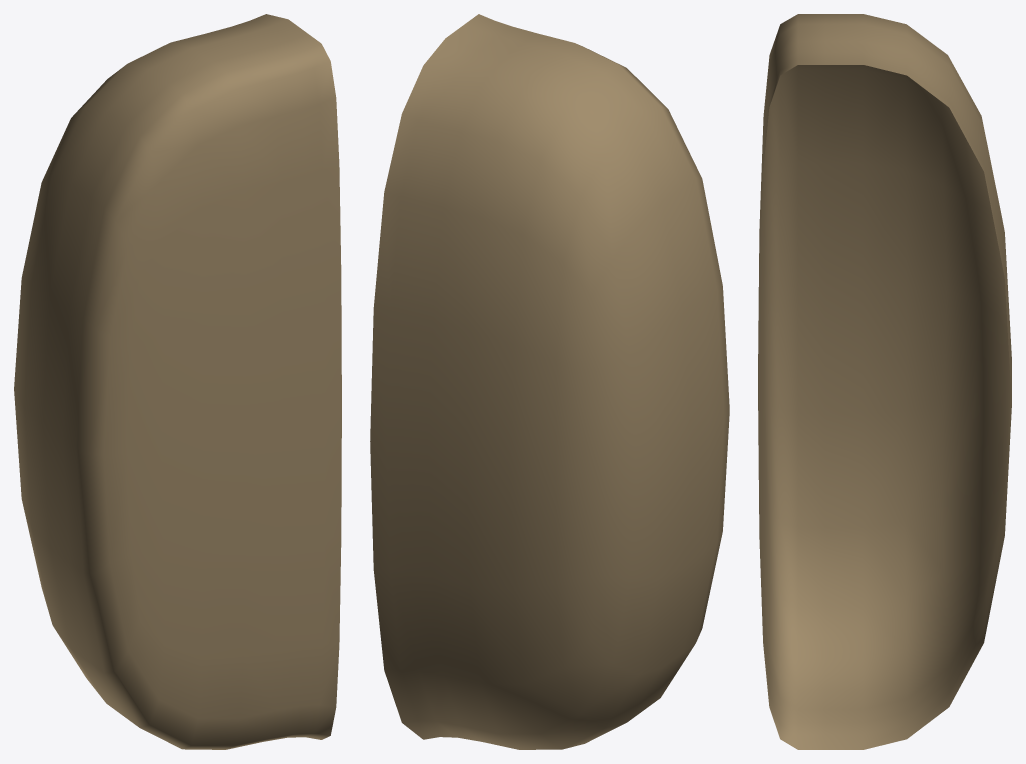
The model's file is mud_frag.fbx.
3 views of the same model, side by side, from view 1: azimuth 30°, elevation 25°; view 2: azimuth 150°, elevation 25°; view 3: azimuth 270°, elevation 25° (orthographic).
Visible parts, largest first — view 1: pCube20; view 2: pCube20; view 3: pCube20.
Boxes of the visible parts, x1=… form: pCube20: x1=14, y1=14, x2=341, y2=749; pCube20: x1=370, y1=14, x2=729, y2=749; pCube20: x1=758, y1=14, x2=1011, y2=749.
Bounding box in the file's own units: 4.11 × 11.15 × 3.74.
